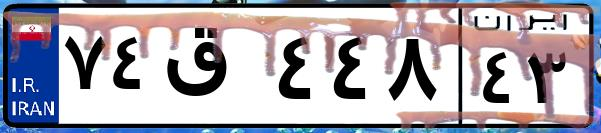3: (525, 38, 570, 115)
4: (270, 28, 330, 110), (330, 28, 385, 110), (475, 38, 525, 113), (110, 28, 158, 98)
7: (57, 26, 110, 100)
8: (385, 28, 445, 110)
ق: (158, 20, 270, 120)
